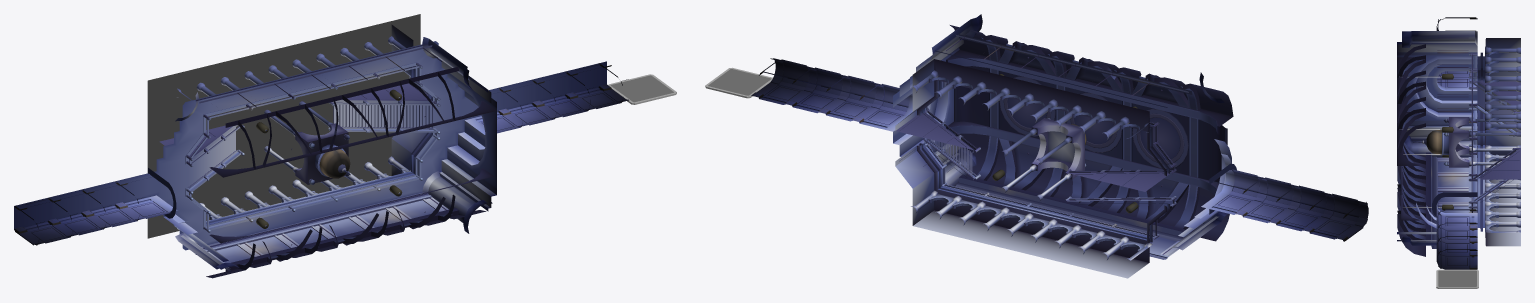
Rendered from NPRotatingRoomRight.gltf.
3 renders of one model, left to right at view 1: azimuth 30°, elevation 25°; view 2: azimuth 150°, elevation 25°; view 3: azimuth 270°, elevation 25°, orthographic. The views are drawn at different scales.
Parts seen in each view (by area): view 1: stg071_w26_Mesh_0000, stg071_o26_Mesh_0023, stg071_o26_Mesh_0044, stg071_o26_Mesh_0071, stg071_o26_Mesh_0002, stg071_o26_Mesh_0031, stg071_o26_Mesh_0005, stg071_o26_Mesh_0014, stg071_o26_Mesh_0011, stg071_o26_Mesh_0051, stg071_o26_Mesh_0059, stg071_o26_Mesh_0040 (+7 smaller); view 2: stg071_o26_Mesh_0005, stg071_o26_Mesh_0031, stg071_o26_Mesh_0023, stg071_o26_Mesh_0044, stg071_o26_Mesh_0040, stg071_o26_Mesh_0069, stg071_o26_Mesh_0059, stg071_o26_Mesh_0071, stg071_o26_Mesh_0051, stg071_o26_Mesh_0021, stg071_o26_Mesh_0011, stg071_o26_Mesh_0018 (+7 smaller); view 3: stg071_o26_Mesh_0031, stg071_o26_Mesh_0044, stg071_o26_Mesh_0023, stg071_o26_Mesh_0069, stg071_o26_Mesh_0005, stg071_o26_Mesh_0059, stg071_o26_Mesh_0051, stg071_o26_Mesh_0071, stg071_o26_Mesh_0011, stg071_o26_Mesh_0040, stg071_o26_Mesh_0000, stg071_p26_Mesh_0000 (+9 smaller).
Boxes of the visible parts, <box> form: stg071_w26_Mesh_0000: <box>147,14,420,238</box>; stg071_o26_Mesh_0023: <box>22,39,598,266</box>; stg071_o26_Mesh_0044: <box>187,60,496,270</box>; stg071_o26_Mesh_0071: <box>24,43,628,248</box>; stg071_o26_Mesh_0002: <box>16,50,614,241</box>; stg071_o26_Mesh_0031: <box>14,37,625,269</box>; stg071_o26_Mesh_0005: <box>44,66,620,271</box>; stg071_o26_Mesh_0014: <box>14,41,606,271</box>; stg071_o26_Mesh_0011: <box>14,64,617,242</box>; stg071_o26_Mesh_0051: <box>27,59,603,249</box>; stg071_o26_Mesh_0059: <box>27,36,600,269</box>; stg071_o26_Mesh_0040: <box>206,92,496,278</box>; stg071_o26_Mesh_0005: <box>779,37,1358,262</box>; stg071_o26_Mesh_0031: <box>751,14,1367,259</box>; stg071_o26_Mesh_0023: <box>916,22,1232,259</box>; stg071_o26_Mesh_0044: <box>910,35,1200,253</box>; stg071_o26_Mesh_0040: <box>783,25,1359,255</box>; stg071_o26_Mesh_0069: <box>895,59,1227,278</box>; stg071_o26_Mesh_0059: <box>762,20,1358,260</box>; stg071_o26_Mesh_0071: <box>759,34,1368,259</box>; stg071_o26_Mesh_0051: <box>762,34,1338,259</box>; stg071_o26_Mesh_0021: <box>771,43,1367,225</box>; stg071_o26_Mesh_0011: <box>765,85,1353,235</box>; stg071_o26_Mesh_0018: <box>1007,97,1180,160</box>; stg071_o26_Mesh_0031: <box>1397,17,1518,269</box>; stg071_o26_Mesh_0044: <box>1397,42,1519,241</box>; stg071_o26_Mesh_0023: <box>1397,31,1516,245</box>; stg071_o26_Mesh_0069: <box>1405,38,1520,246</box>; stg071_o26_Mesh_0005: <box>1402,22,1520,266</box>; stg071_o26_Mesh_0059: <box>1397,31,1520,265</box>; stg071_o26_Mesh_0051: <box>1401,53,1514,265</box>; stg071_o26_Mesh_0071: <box>1399,18,1520,269</box>; stg071_o26_Mesh_0011: <box>1446,71,1519,266</box>; stg071_o26_Mesh_0040: <box>1397,30,1468,259</box>; stg071_o26_Mesh_0000: <box>1448,71,1466,265</box>; stg071_p26_Mesh_0000: <box>1473,55,1515,211</box>.
Bounding box in the file's own units: 221 × 54.05 × 45.61.
